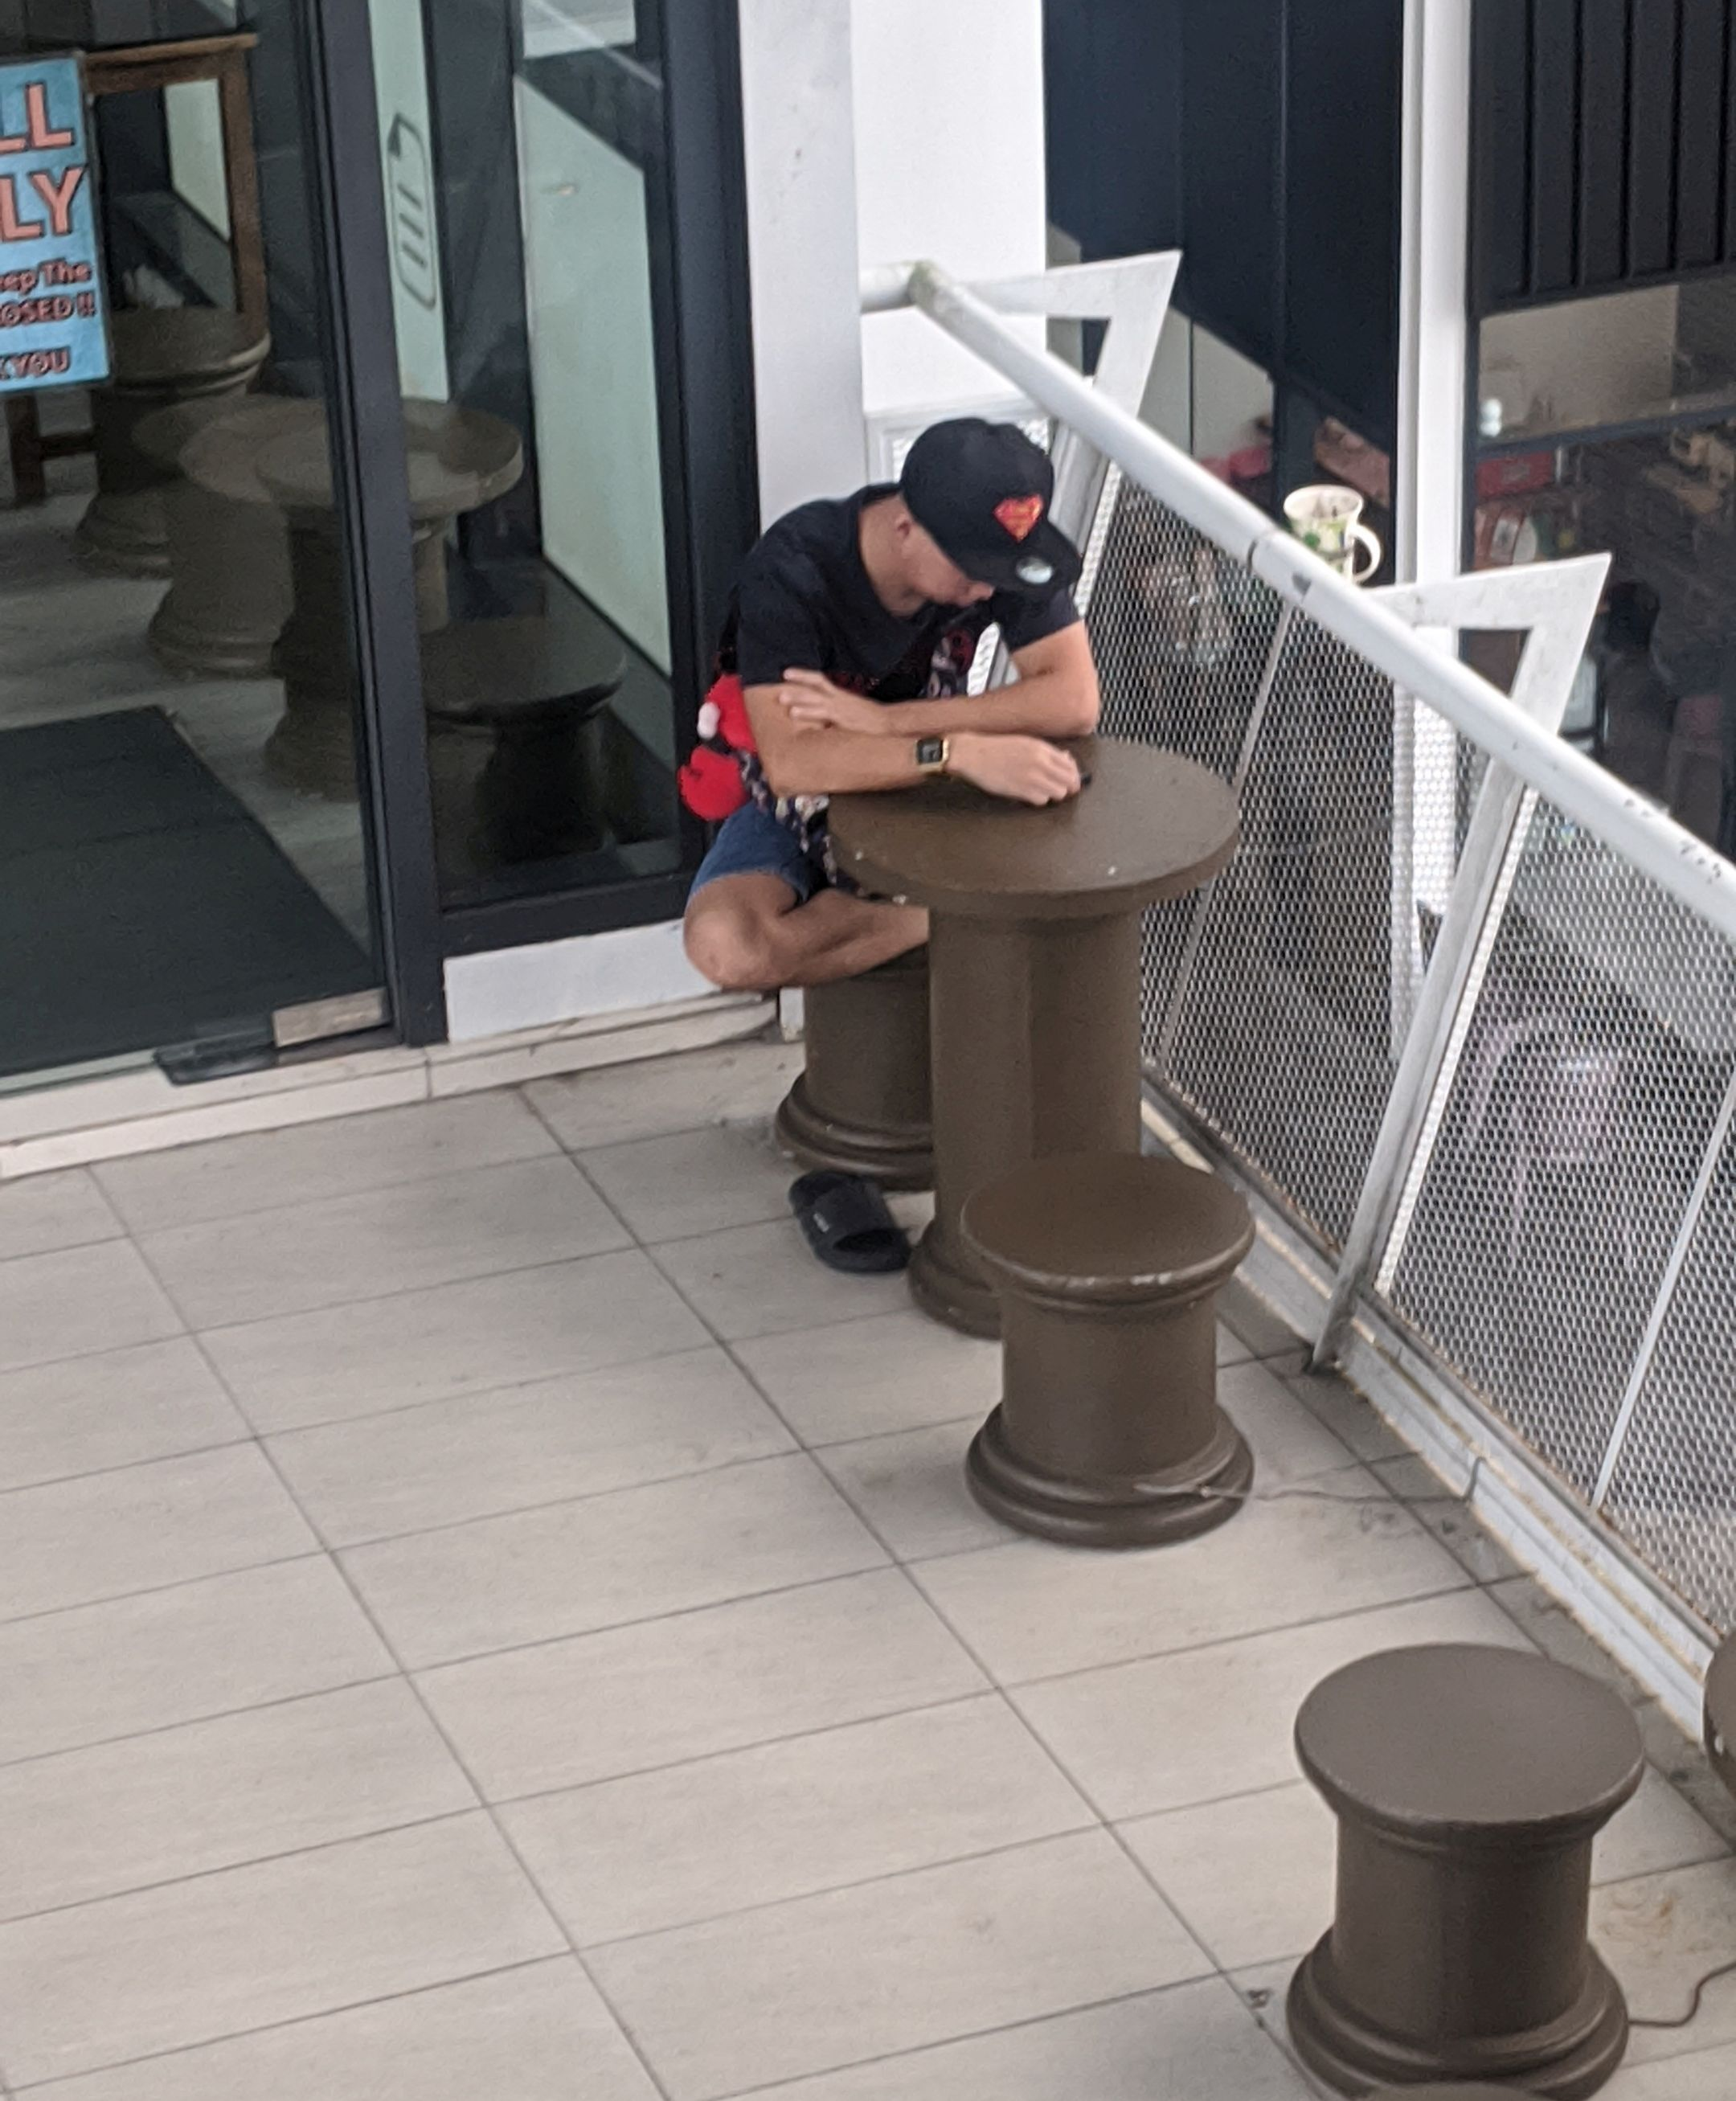sit: (628, 363, 1131, 1030)
